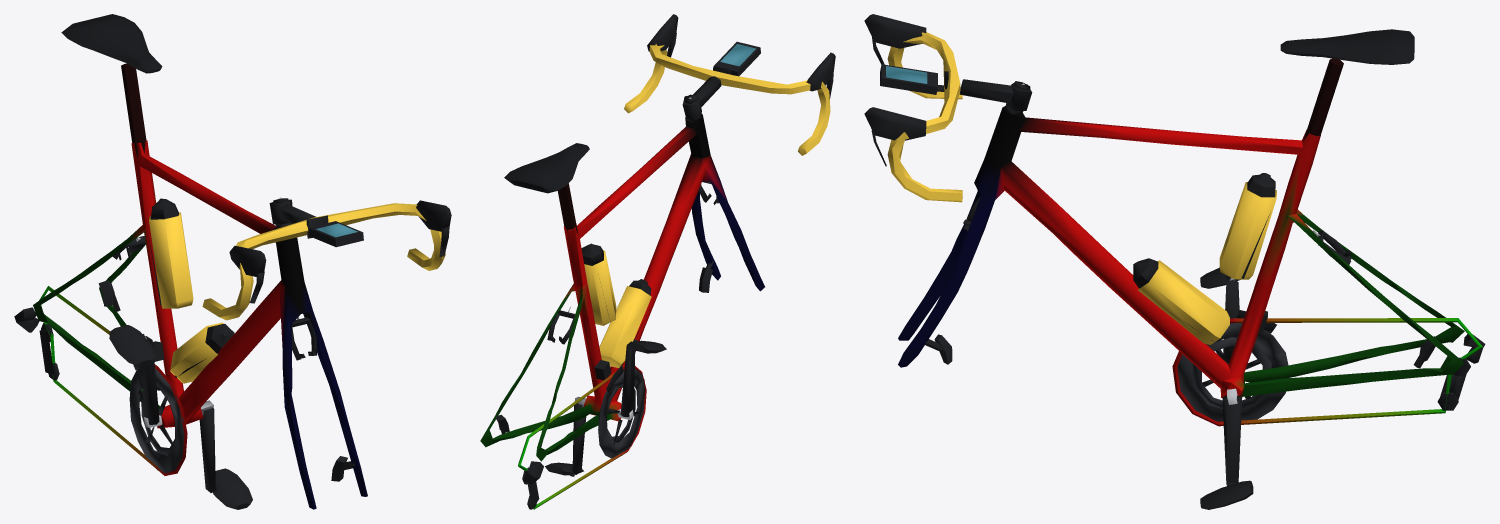
Rendered from climb_lod1.glb.
3 renders of one model, left to right at view 1: azimuth 30°, elevation 25°; view 2: azimuth 150°, elevation 25°; view 3: azimuth 270°, elevation 25°, orthographic. The views are drawn at different scales.
Parts seen in each view (by area): view 1: frame, cockpit, opt_bottles, crankset, saddle, pedal_R, opt_derailleur, pedal_L, opt_brakes_rim, opt_brakes_disc; view 2: frame, cockpit, opt_bottles, crankset, saddle, opt_derailleur, opt_brakes_rim, opt_brakes_disc; view 3: frame, cockpit, opt_bottles, crankset, saddle, opt_derailleur, pedal_L, opt_brakes_disc.
Boxes of the visible parts, box(x1,y1,x2,y2) form: frame: box(33, 63, 367, 509); cockpit: box(202, 197, 451, 320); opt_bottles: box(147, 198, 234, 383); crankset: box(129, 336, 215, 492); saddle: box(61, 14, 162, 73); pedal_R: box(109, 325, 155, 366); opt_derailleur: box(14, 307, 164, 380); pedal_L: box(213, 468, 252, 509); opt_brakes_rim: box(112, 236, 316, 360); opt_brakes_disc: box(98, 280, 354, 481); frame: box(480, 113, 764, 509); cockpit: box(624, 14, 835, 155); opt_bottles: box(581, 243, 651, 368); crankset: box(572, 341, 645, 474); saddle: box(504, 143, 589, 193); opt_derailleur: box(522, 360, 623, 509); opt_brakes_rim: box(547, 181, 719, 344); opt_brakes_disc: box(496, 261, 713, 434); frame: box(898, 58, 1482, 426); cockpit: box(864, 14, 1032, 202); opt_bottles: box(1133, 173, 1276, 344); crankset: box(1177, 280, 1288, 485); saddle: box(1280, 29, 1414, 64); opt_derailleur: box(1237, 310, 1485, 410); pedal_L: box(1200, 480, 1253, 509); opt_brakes_disc: box(925, 334, 1436, 368).
Bounding box in the file's own units: 0.4646 × 0.885 × 1.13.
